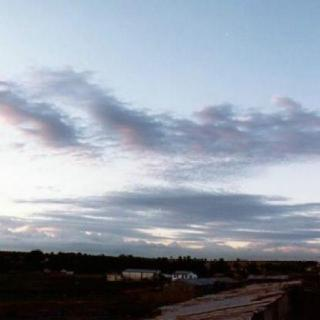Stratocumulus: (0, 65, 320, 253)
